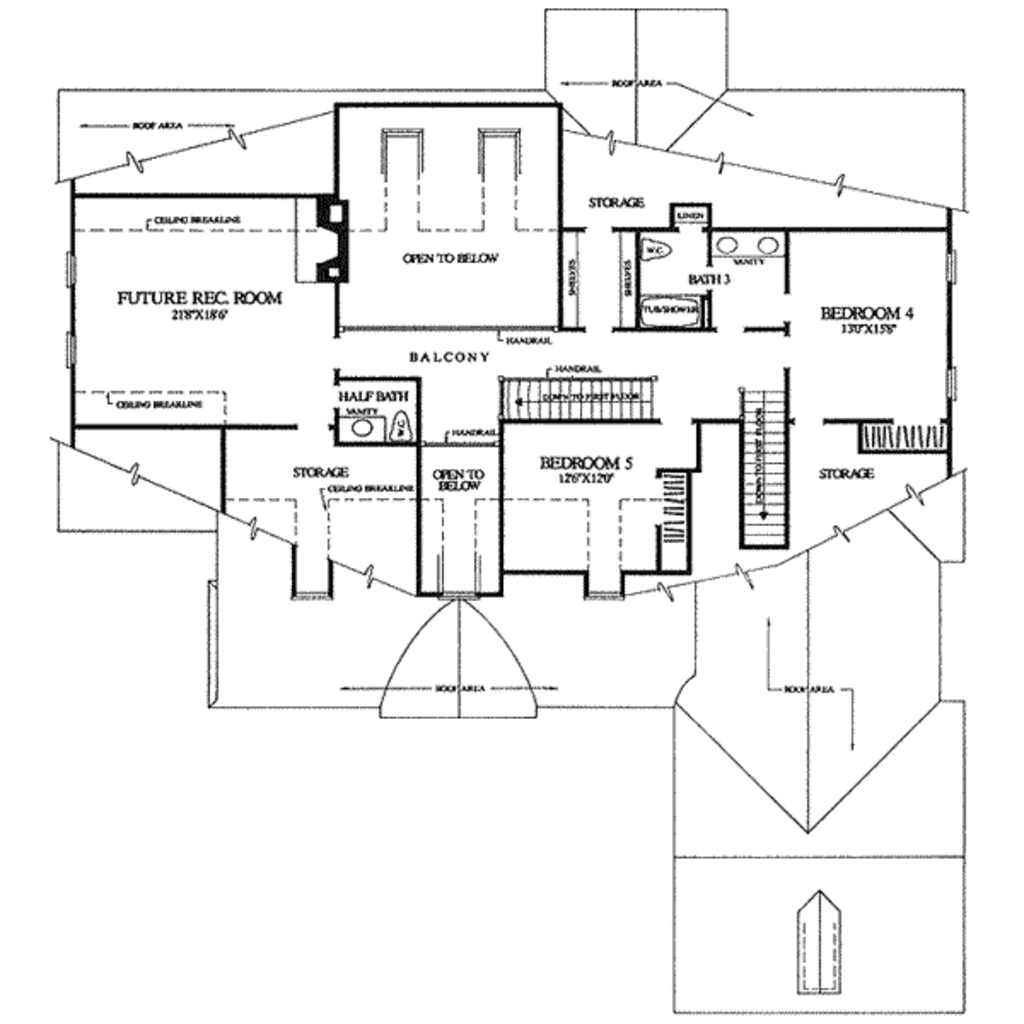large_sink: (638, 228, 676, 270), (384, 406, 418, 444)
small_sink: (705, 224, 785, 261), (335, 415, 387, 443)
stairs: (734, 389, 793, 551), (491, 372, 659, 426)
tub: (635, 293, 713, 326)
window: (943, 248, 963, 293), (64, 328, 82, 373), (941, 362, 959, 401), (68, 245, 80, 295)
